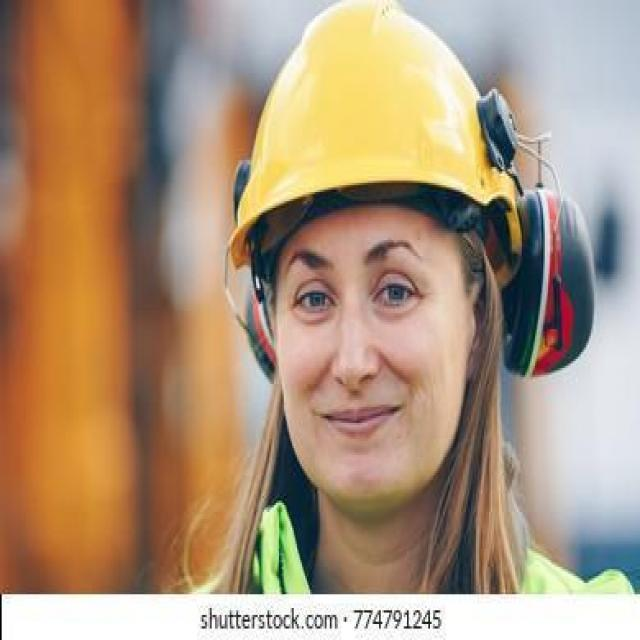hat: (231, 4, 522, 295)
